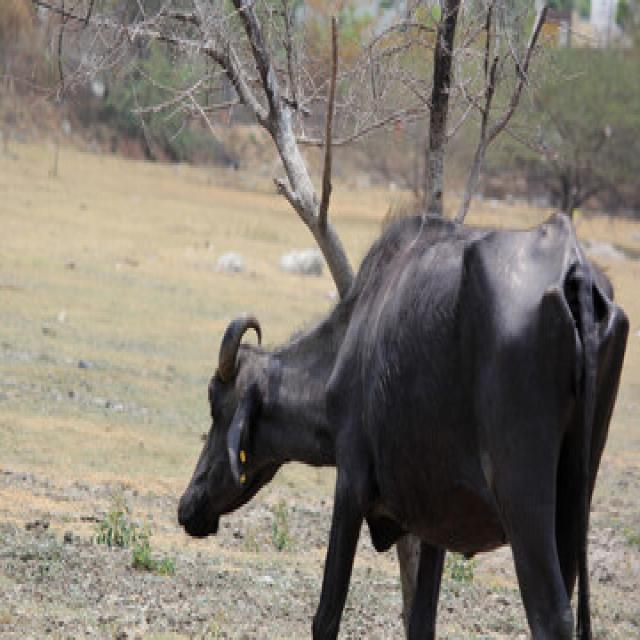Buffalo: (173, 200, 631, 637)
